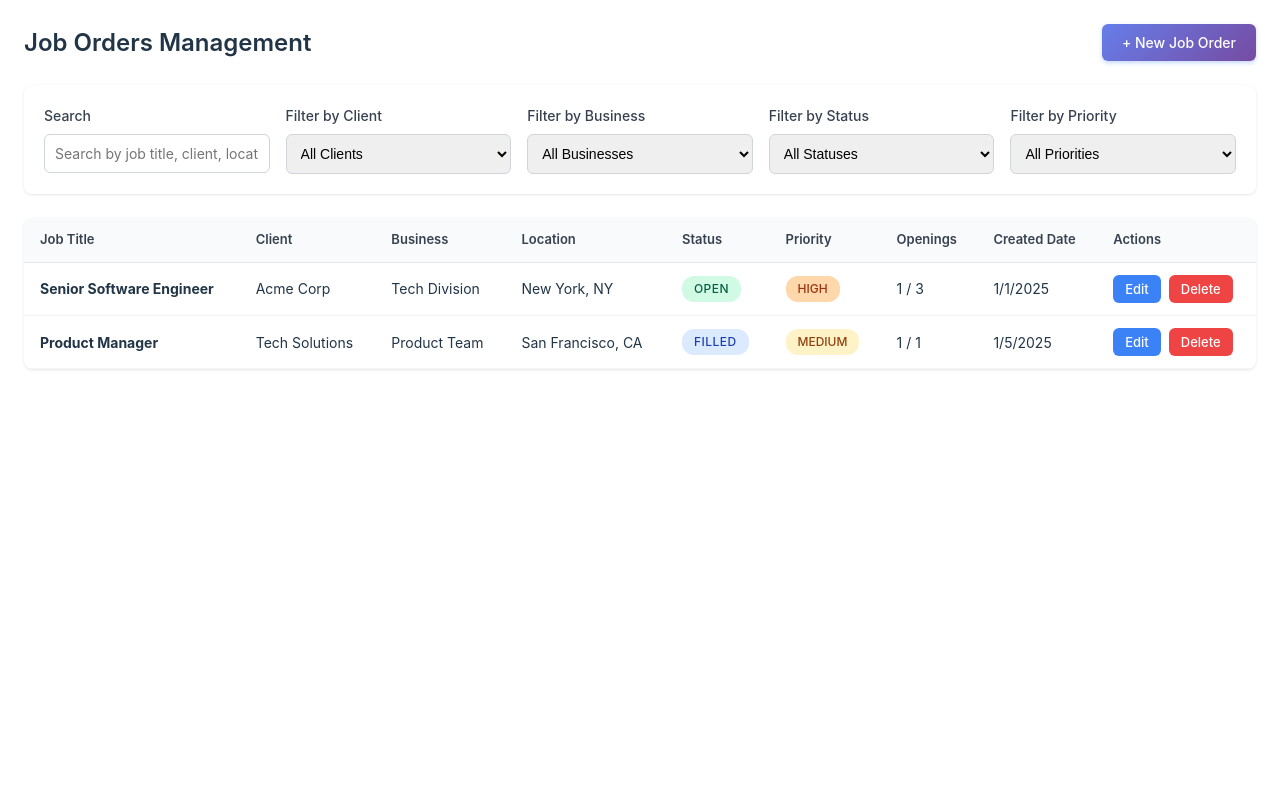
Test: JobOrdersManager › opens modal in edit mode when clicking edit button
The width and height of the screenshot is (1280, 800).
Expected: the text "Senior Software Engineer" is shown, [40,280,214,297]
Click the button "Edit" in the row of "Senior Software Engineer" at (1137, 288), box [1113,274,1161,302]
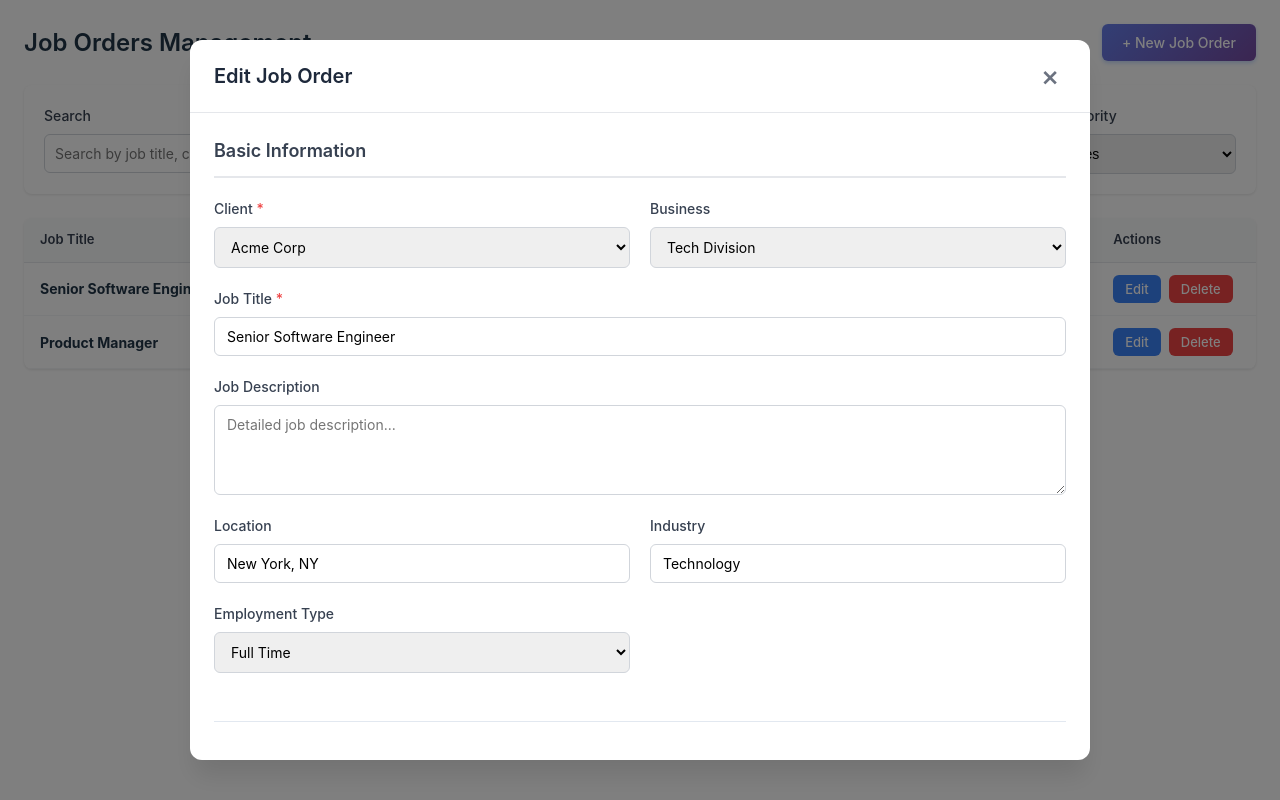
Expected: the heading "Edit Job Order" is shown, [214,61,352,91]
Expected: the field showing "Senior Software Engineer" is shown, [214,317,1066,356]
